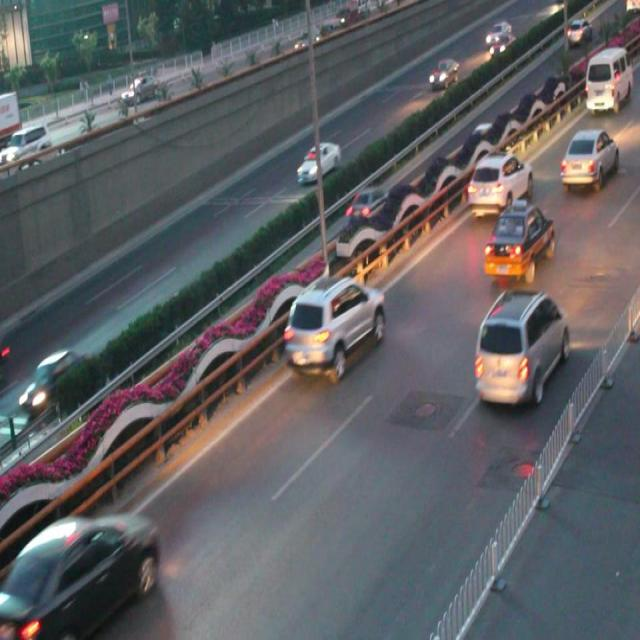car: (9, 505, 161, 640), (475, 289, 567, 410), (286, 278, 384, 380), (482, 201, 553, 281), (24, 348, 89, 414), (465, 150, 532, 211), (559, 130, 619, 188), (295, 140, 340, 186), (345, 184, 388, 225), (426, 54, 461, 92)
